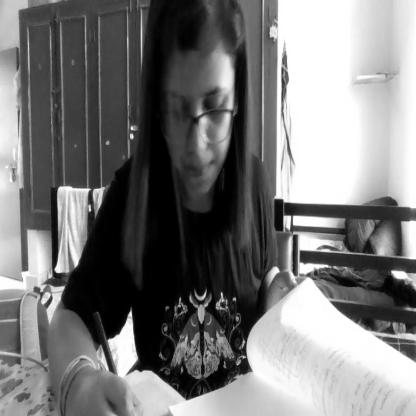Distracted: (150, 0, 244, 204)
